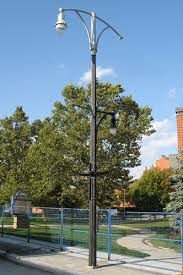light_pole: (82, 7, 101, 273)
